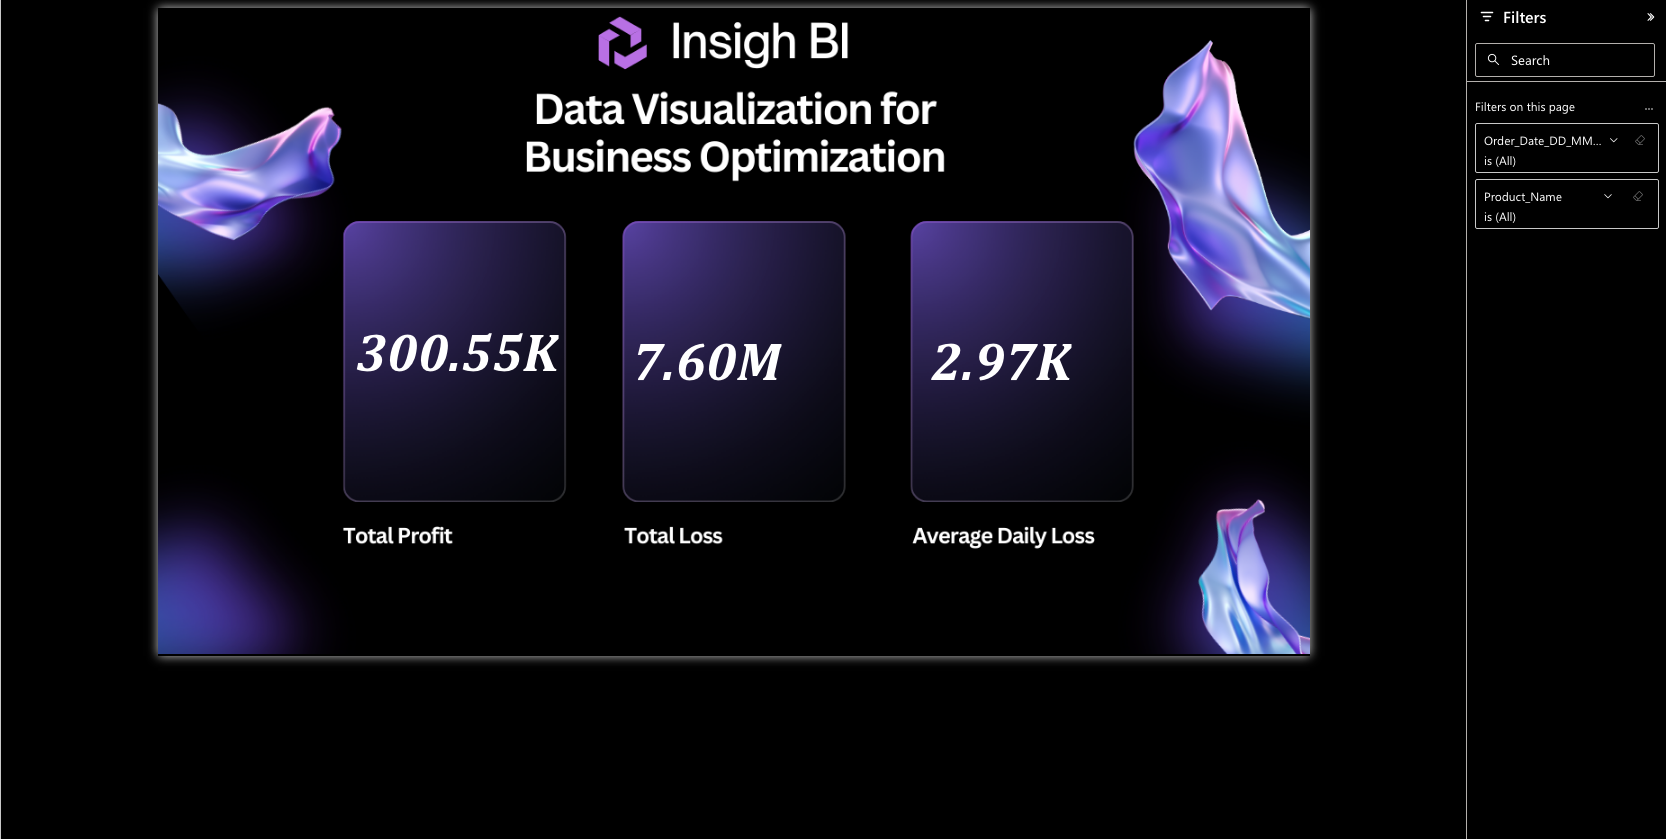

This screenshot's page, from the dashboard's own definition file:
{"tool":"powerbi","page":{"name":"Page 2","canvas":[1280,720],"ordinal":1},"visuals":[{"type":"cardVisual","fields":{"Data":["measure.Total Profit"]},"box":[190.6,230.4,307.6,300.4],"z":0},{"type":"cardVisual","fields":{"Data":["measure.Total Loss"]},"box":[498.3,316.1,300.4,149.6],"z":1000},{"type":"cardVisual","fields":{"Data":["measure.Avg Loss Per Day"]},"box":[830,316.1,300.4,149.6],"z":2000}]}

Visuals, with their boxes on the page's 1280x720 design canvas (x1, y1, x2, y2). These are canvas units, not pixel positions in the 1666x839 screenshot, which may show the page scaled, cropped or inside an application window:
cardVisual - measure.Total Profit: x1=191, y1=230, x2=498, y2=531
cardVisual - measure.Total Loss: x1=498, y1=316, x2=799, y2=466
cardVisual - measure.Avg Loss Per Day: x1=830, y1=316, x2=1130, y2=466
